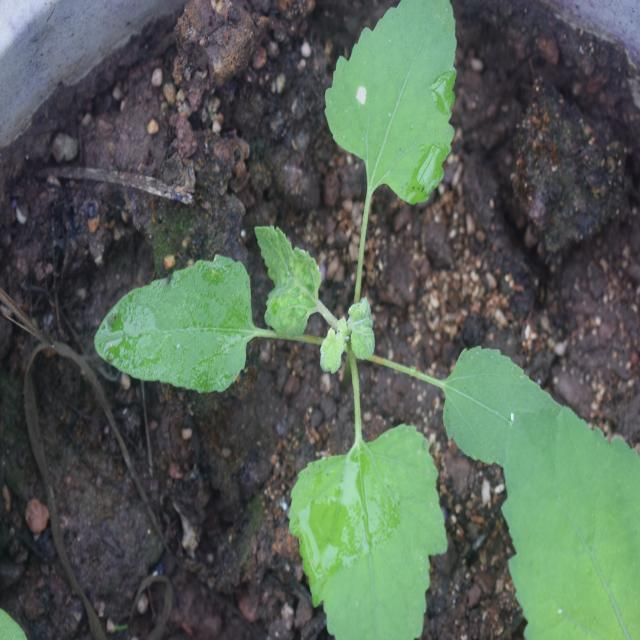cocklebur: (140, 0, 604, 600)
